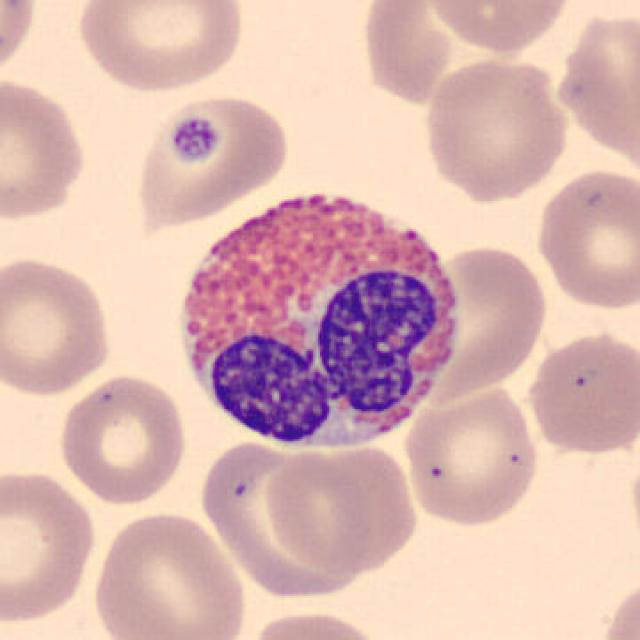Eosinophil: (162, 167, 471, 462)
Platelets: (167, 111, 221, 166)
RBC: (195, 435, 374, 603), (132, 90, 294, 233), (420, 53, 572, 203), (260, 441, 420, 578), (89, 508, 249, 640), (402, 383, 542, 529), (428, 238, 550, 402), (54, 370, 190, 508), (0, 252, 117, 398), (71, 0, 249, 95), (0, 463, 100, 628), (532, 166, 638, 314), (551, 5, 640, 178), (523, 326, 638, 458), (0, 72, 91, 224), (357, 0, 456, 109), (424, 0, 574, 56), (243, 606, 387, 640), (0, 0, 41, 88), (597, 573, 640, 640)
